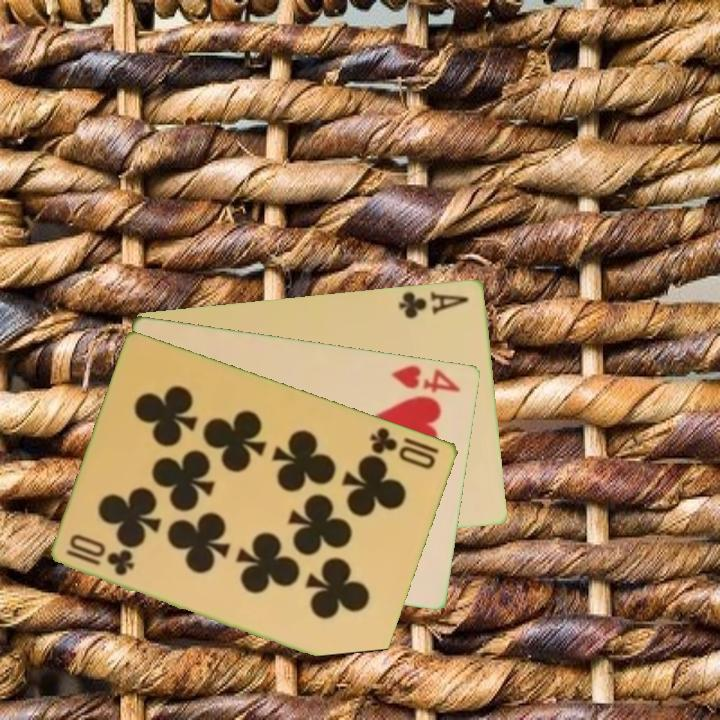10c: (63, 531, 138, 579), (367, 423, 439, 472)
4h: (388, 361, 464, 395)
Ac: (396, 287, 472, 321)
